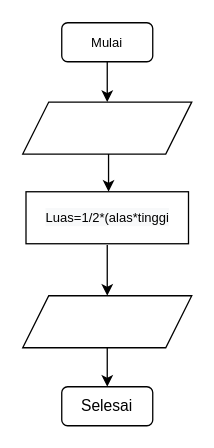
This 214x448 diagram has some shape labels left out. Each missing label, with the centre of its shape:
"Masukan Alas" goes at [106,127].
"Tampil Luas Segitiga" goes at [106,321].
